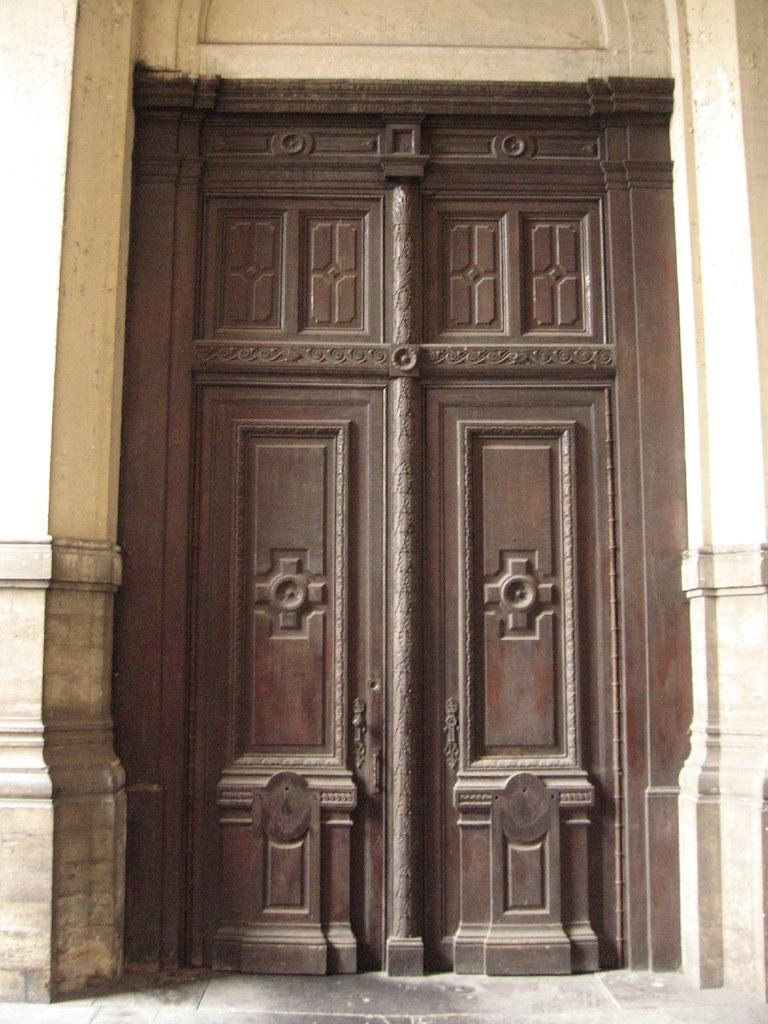door: (130, 72, 684, 987)
